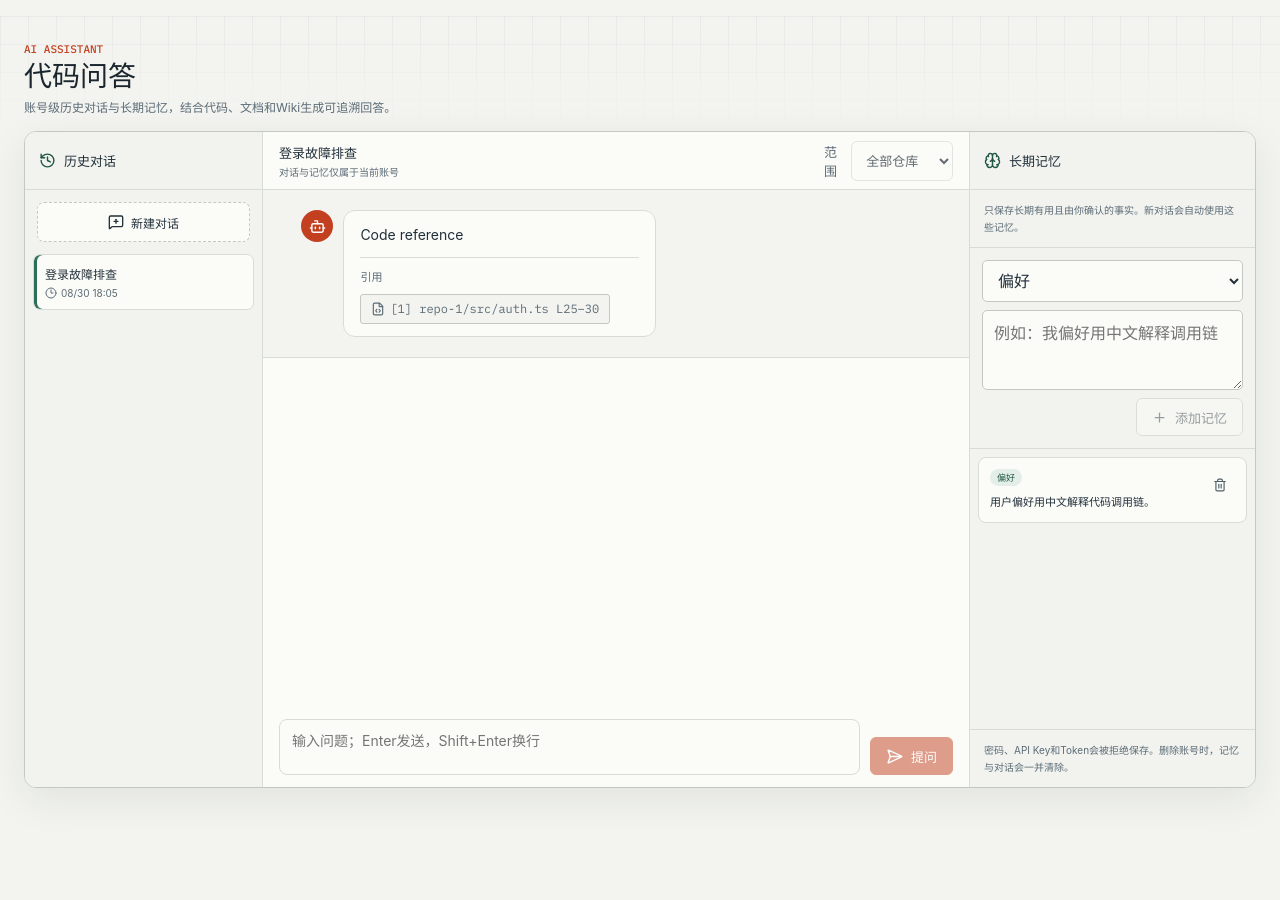
it: ChatView account workspace › passes the original commit when opening a code citation from history
Click the button with class "citation-chip" at (485, 309), box [360,294,610,324]
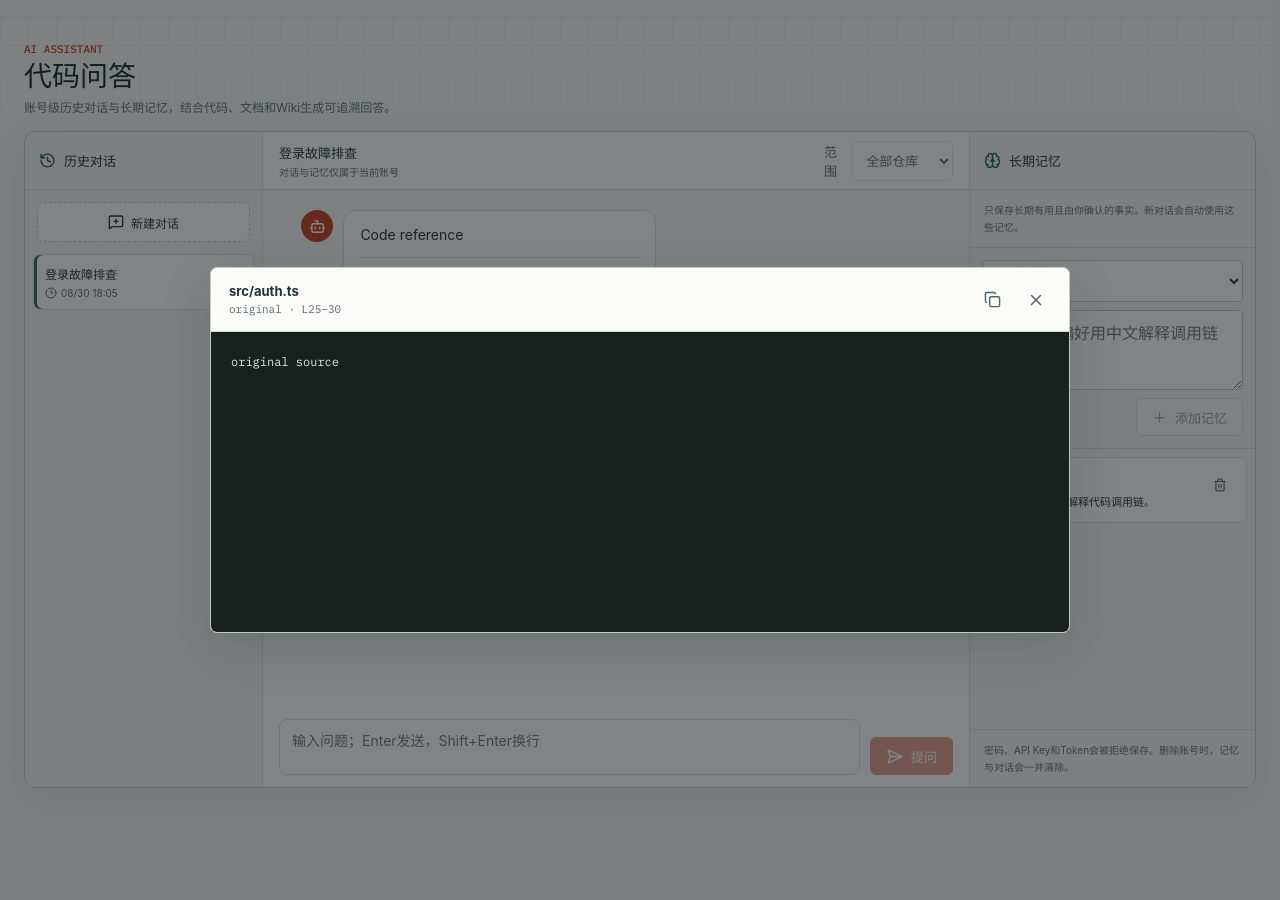
Check: the element with class "source-code" reads "original source", box [231,354,339,369]
